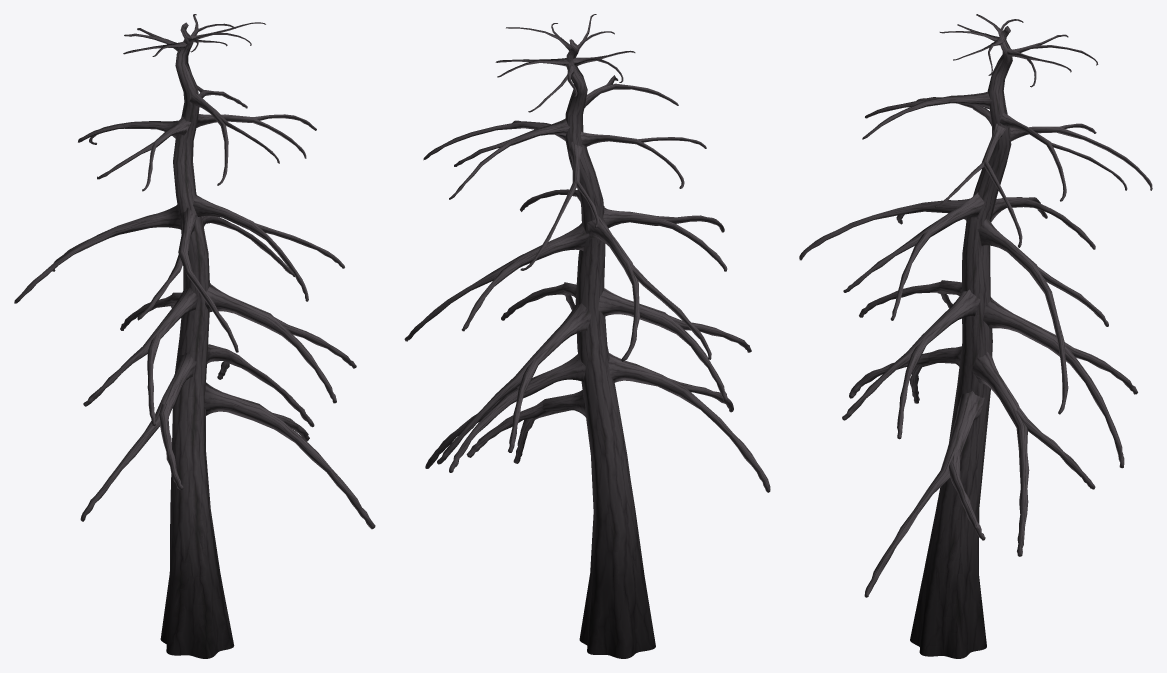
File: deadtree_5.gltf
3 views of the same model, side by side, from view 1: azimuth 30°, elevation 25°; view 2: azimuth 150°, elevation 25°; view 3: azimuth 270°, elevation 25° (orthographic). The views are drawn at different scales.
Visible parts, largest first — view 1: DeadTree_5; view 2: DeadTree_5; view 3: DeadTree_5.
Boxes of the visible parts, x1=… form: DeadTree_5: x1=14, y1=14, x2=375, y2=658; DeadTree_5: x1=404, y1=14, x2=770, y2=658; DeadTree_5: x1=799, y1=14, x2=1152, y2=658.
Bounding box in the file's own units: 8.36 × 16.44 × 8.41.
1 material, 1 textured.
